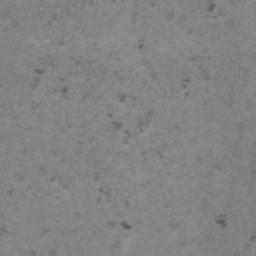Oxide scale of temperature system: (131, 0, 245, 145), (30, 55, 163, 159), (110, 221, 132, 256), (99, 187, 111, 201), (215, 214, 227, 228), (49, 174, 63, 183), (15, 173, 25, 182), (169, 222, 180, 230)
